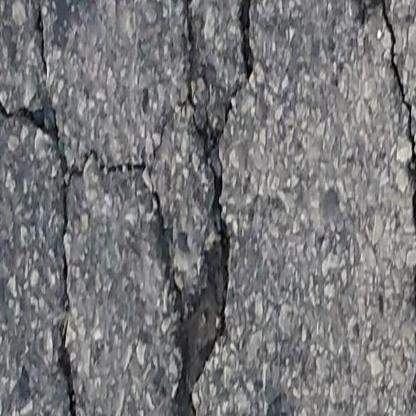Cracks: (0, 0, 259, 416), (361, 0, 416, 416), (238, 0, 267, 52), (58, 406, 75, 416)
